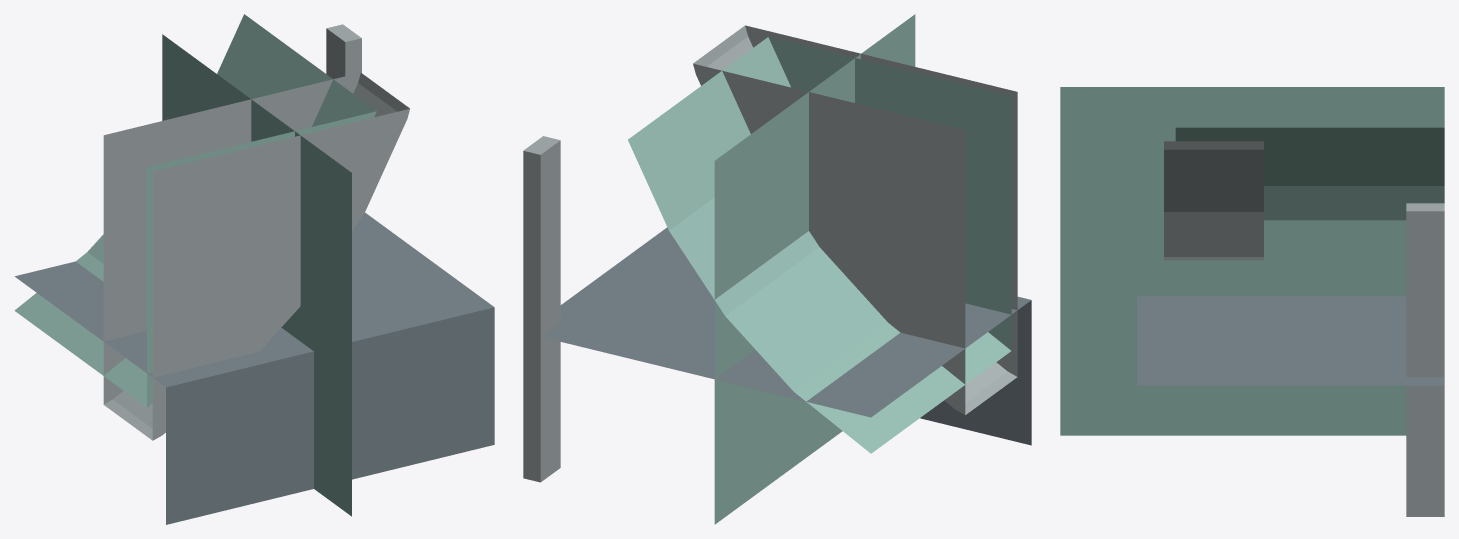
The model's file is cell_83.obj.
3 renders of one model, left to right at view 1: azimuth 30°, elevation 25°; view 2: azimuth 150°, elevation 25°; view 3: azimuth 270°, elevation 25°, orthographic. The views are drawn at different scales.
Bounding box in the file's own units: 1 × 1 × 1.
